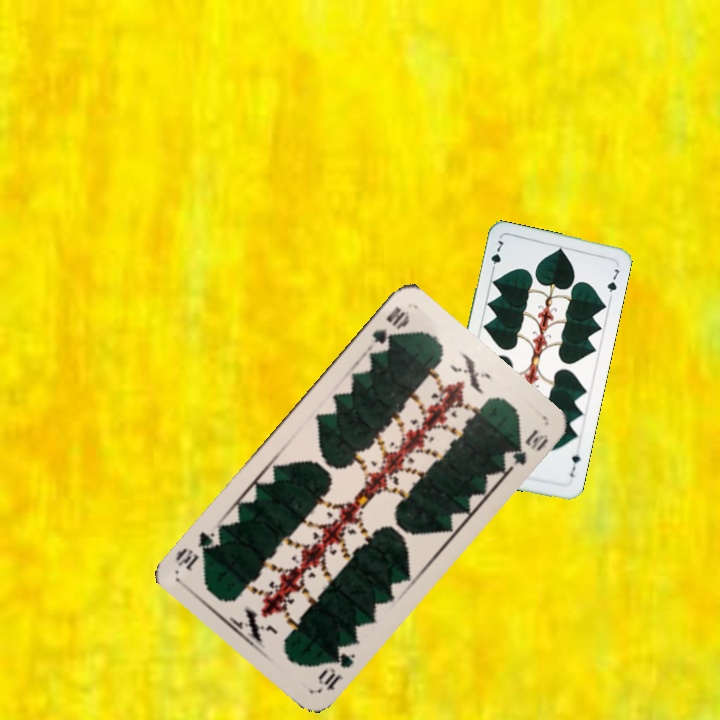G10: (313, 648, 359, 693), (367, 302, 412, 347)
G7: (487, 236, 506, 275), (566, 450, 583, 480)
